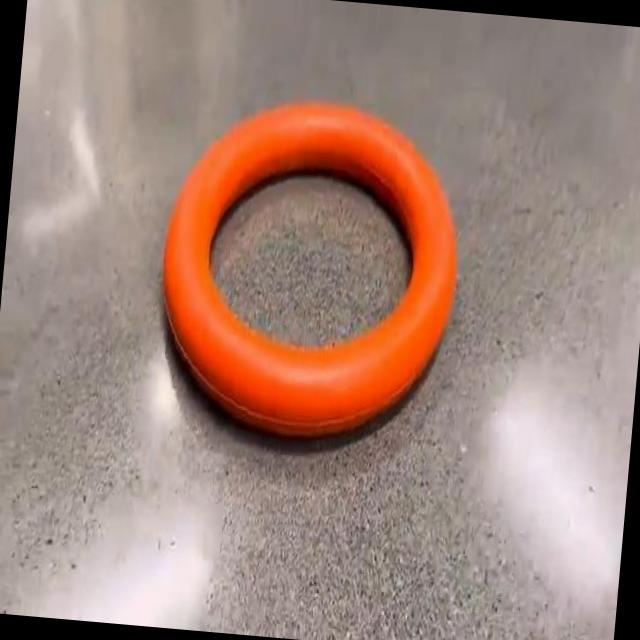note: (163, 102, 456, 435)
